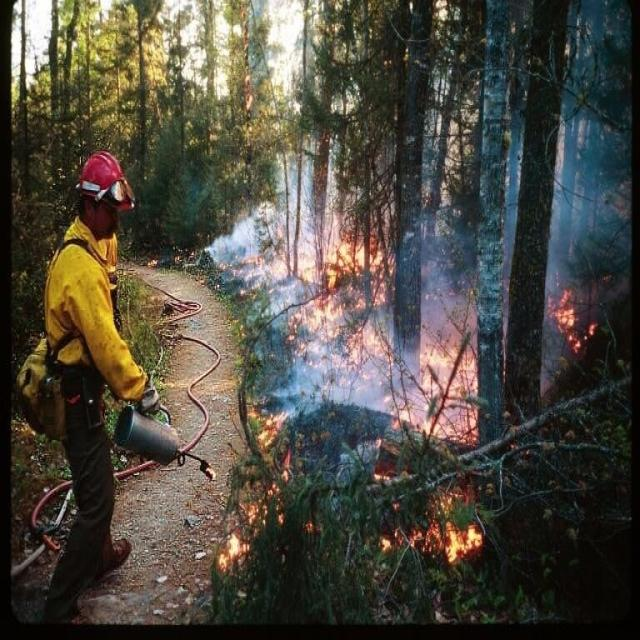Fire: (182, 187, 612, 588)
